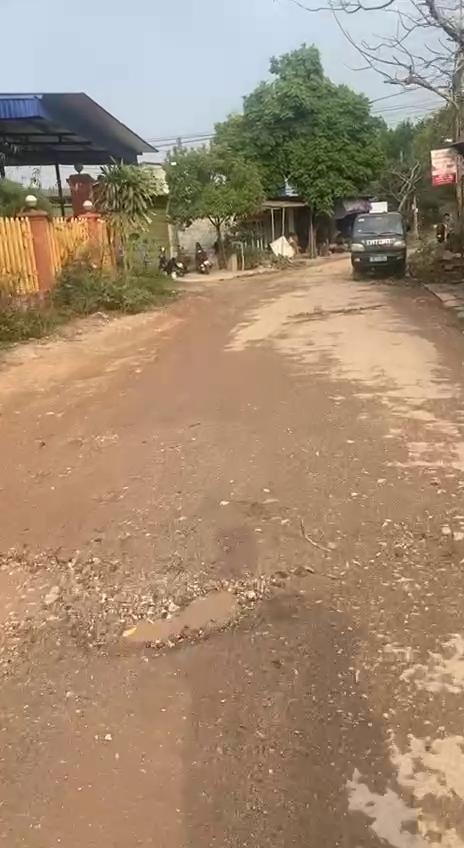pothole: (106, 572, 276, 652), (94, 544, 97, 545)
